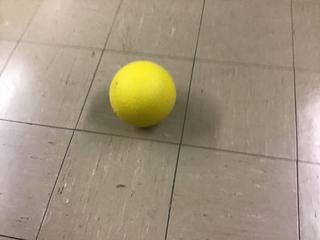power_cell: (106, 57, 184, 133)
